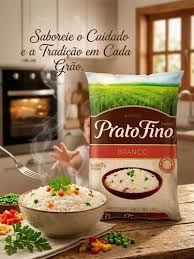arroz: (84, 71, 184, 221)
